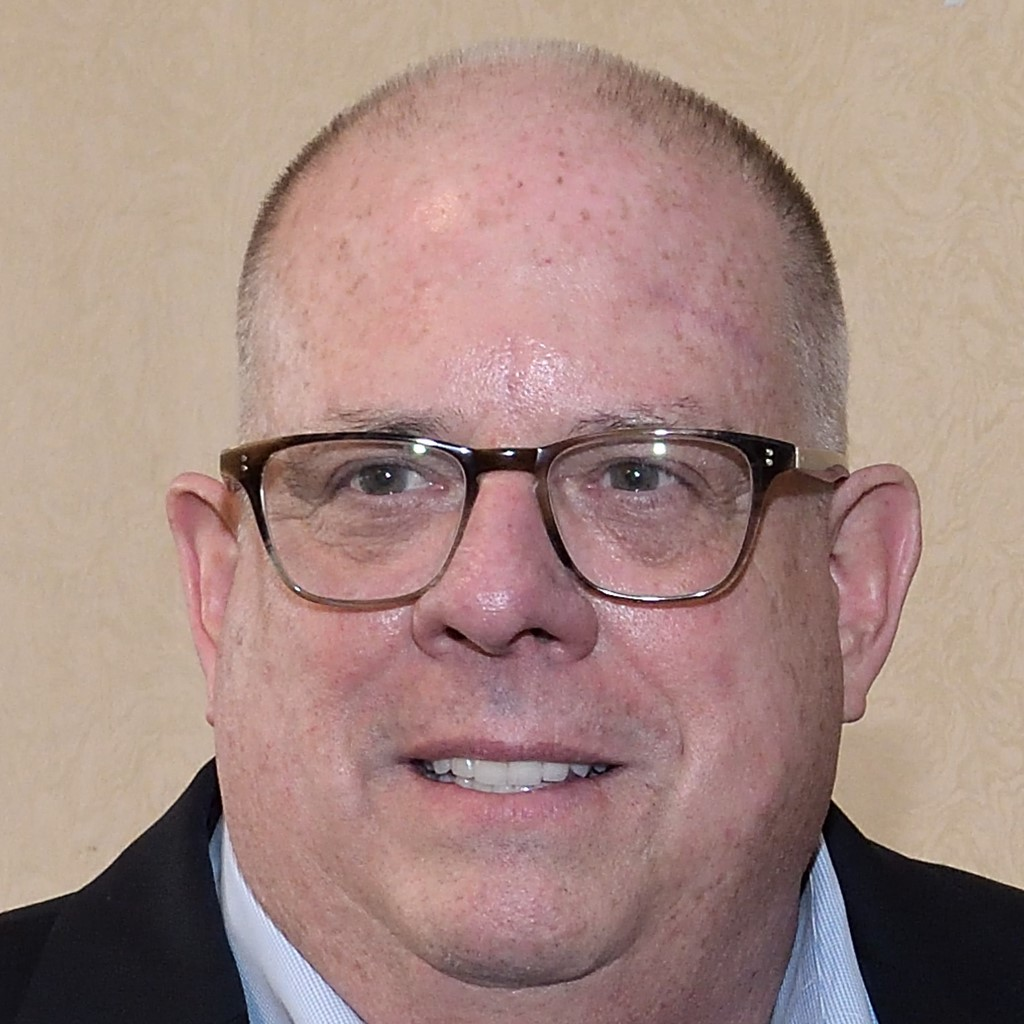sin_mascara: (236, 134, 861, 992)
